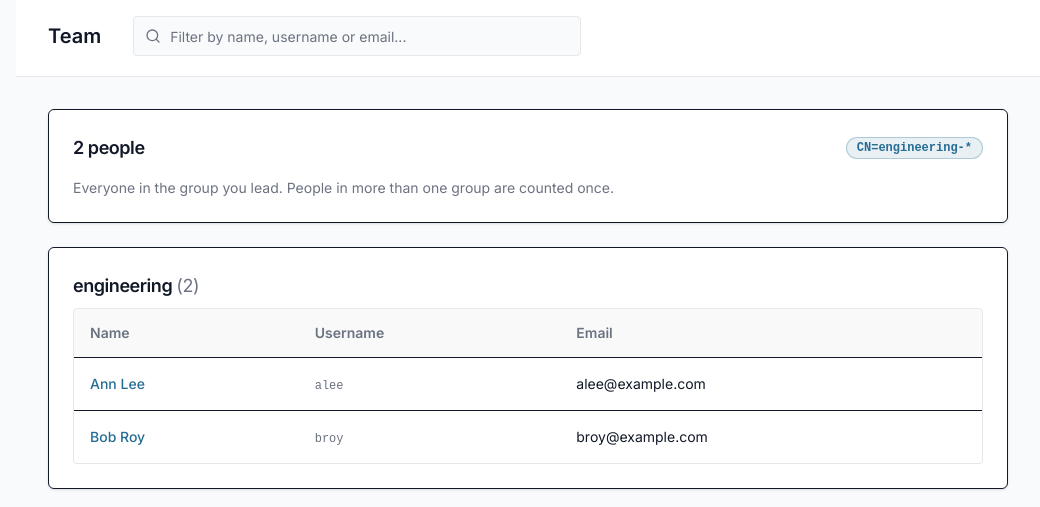
Test case: TeamPage › filters members by name without refetching
Expected: the link "Ann Lee" is shown, [90,374,145,392]
In the field named "Filter team members": (357, 36) [133,16,581,56], type "bob"
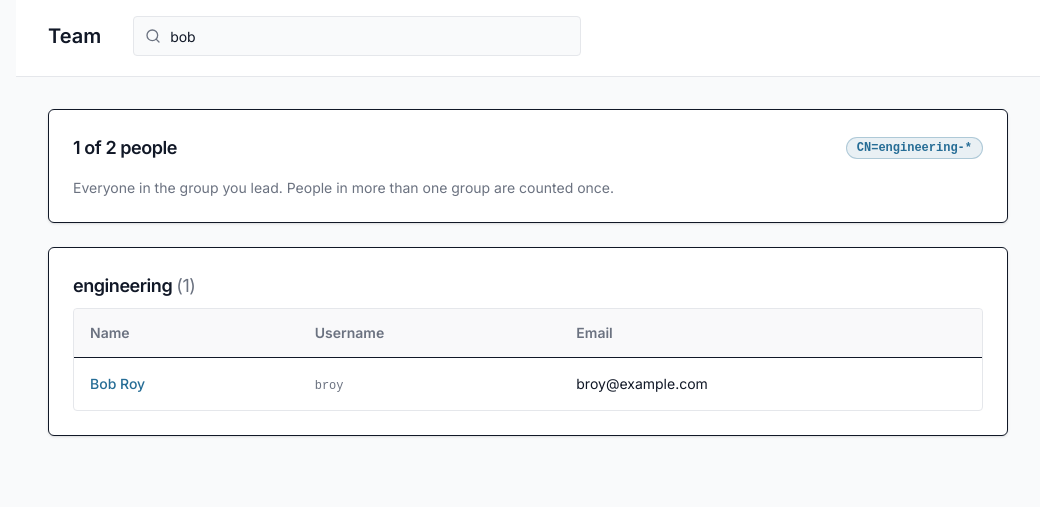
Expected: the link "Bob Roy" is shown, [90,374,145,392]
Expected: the link "Ann Lee" is gone
